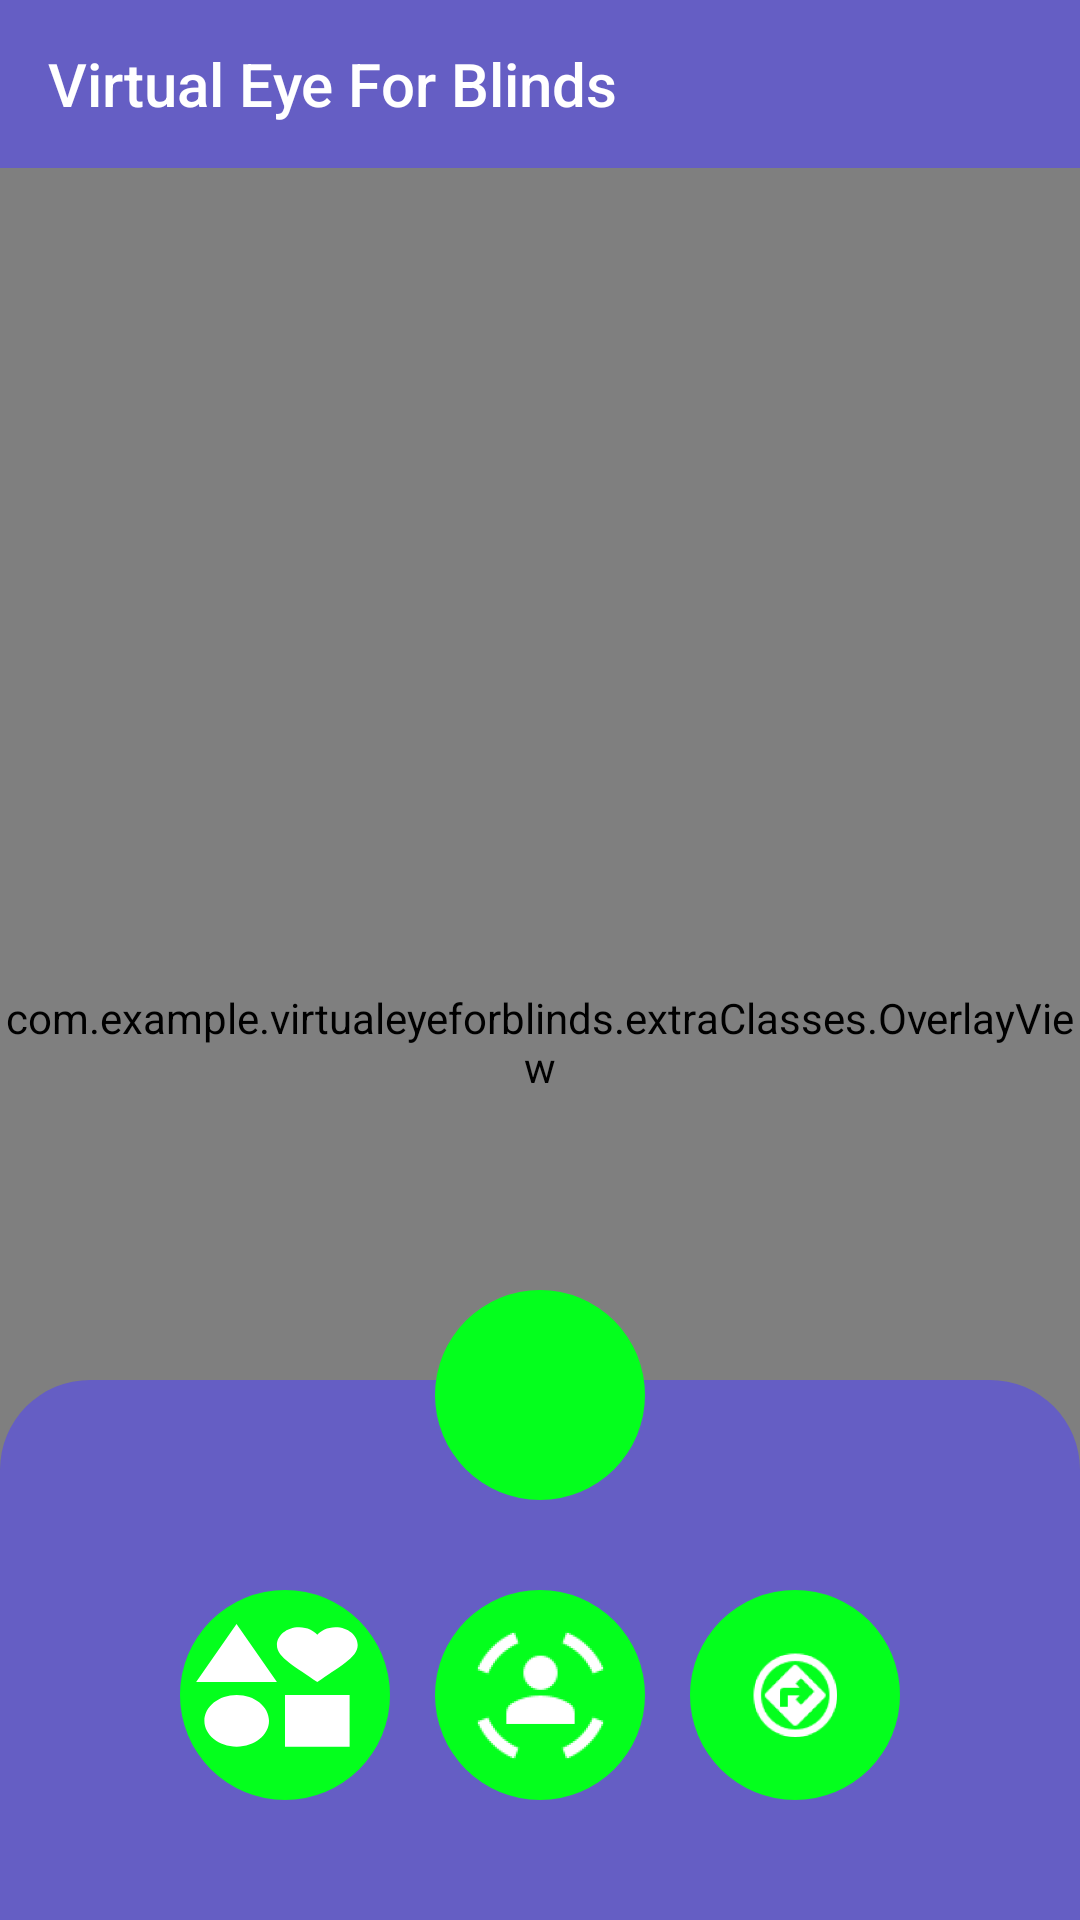

Where to tap for icons on this 1080w x 1920h app screen, as [x,y]:
interests: [285,1695]
navigate: [795,1695]
person detection: [540,1695]
